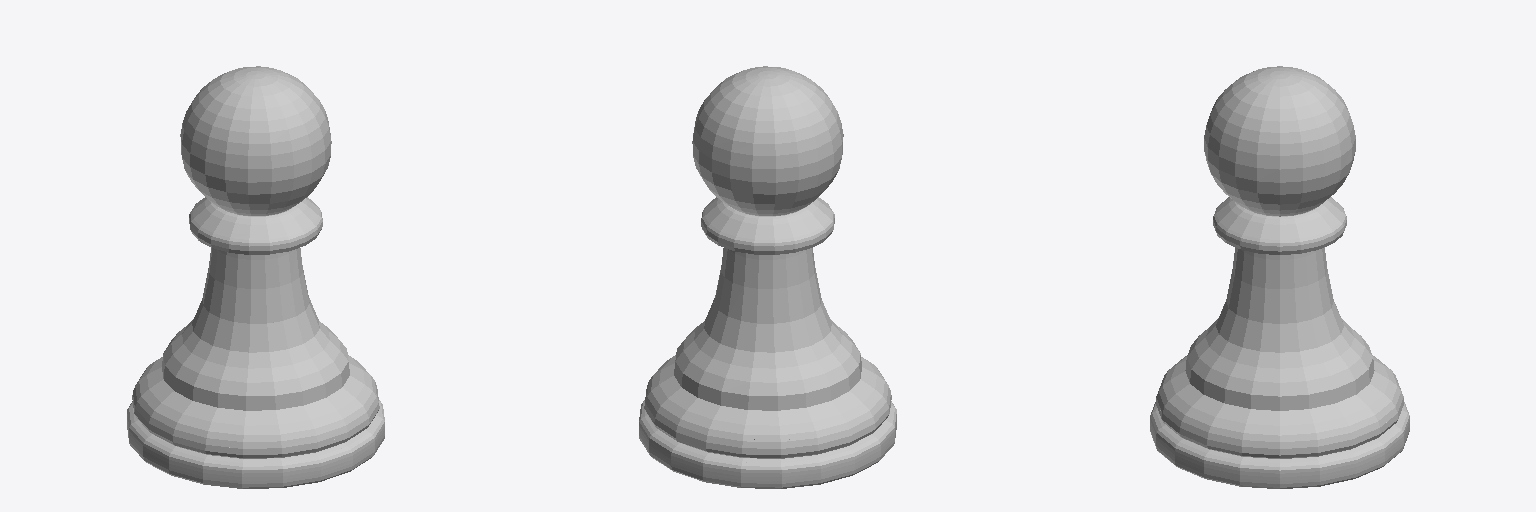
Rendered from pawn_b_1.obj.
The picture shows the model from 3 angles: view 1: azimuth 30°, elevation 25°; view 2: azimuth 150°, elevation 25°; view 3: azimuth 270°, elevation 25°; orthographic projection.
Parts seen in each view (by area): view 1: pawn_b_1; view 2: pawn_b_1; view 3: pawn_b_1.
Part boxes in pixels (left/top/right/bottom): pawn_b_1: left=127, top=66, right=384, bottom=488; pawn_b_1: left=639, top=66, right=896, bottom=488; pawn_b_1: left=1150, top=66, right=1409, bottom=488.
Size of the model in its own units: 2.73 by 4.2 by 2.73.